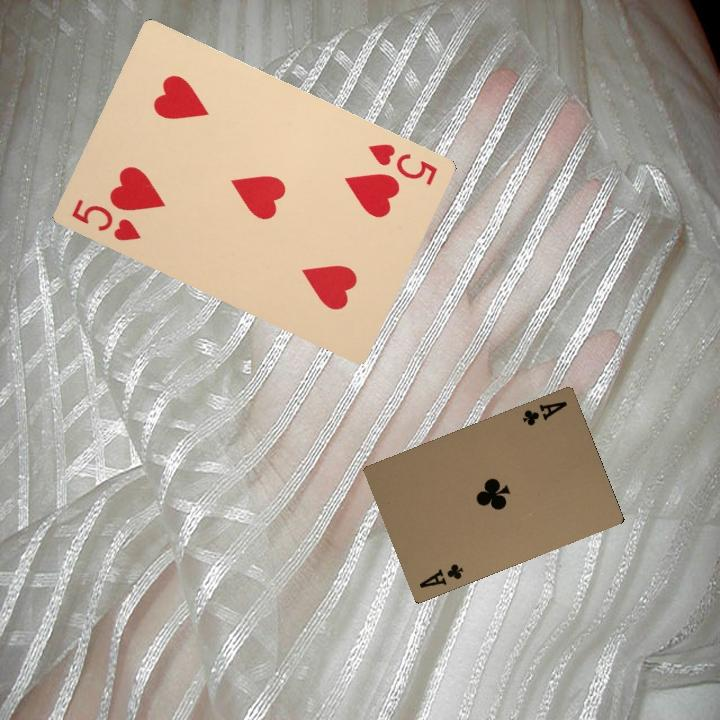5h: (67, 195, 144, 244), (364, 139, 440, 188)
Ac: (519, 397, 570, 428), (415, 560, 466, 591)
